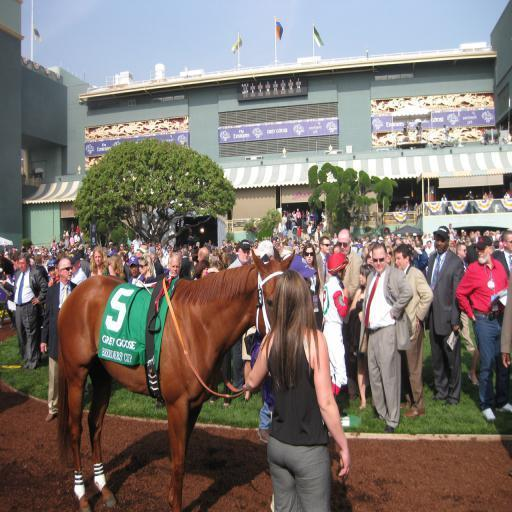horse: (56, 246, 296, 512)
